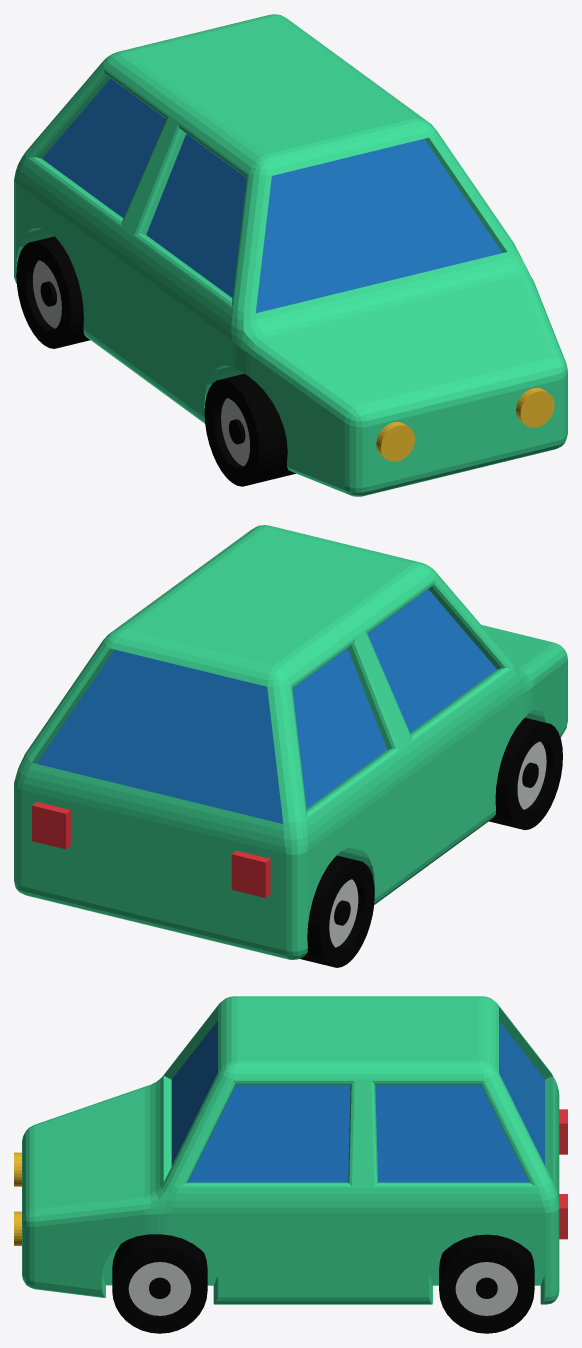
File: Auto groen 1 - auto + verlichting 1.glb
The picture shows the model from 3 angles, top to bottom: view 1: azimuth 30°, elevation 25°; view 2: azimuth 150°, elevation 25°; view 3: azimuth 270°, elevation 25°; orthographic projection. The views are drawn at different scales.
Parts seen in each view (by area): view 1: Auto, Cylinder.003, Cylinder.005, Cylinder.014; view 2: Auto, Cylinder.005, Cylinder.003, Cube.013; view 3: Auto, Cylinder.003, Cylinder.005, Cube.013, Cylinder.014.
Boxes of the visible parts, x1=… form: Auto: x1=14, y1=14, x2=567, y2=496; Cylinder.003: x1=204, y1=373, x2=295, y2=486; Cylinder.005: x1=16, y1=236, x2=90, y2=348; Cylinder.014: x1=376, y1=388, x2=554, y2=461; Auto: x1=14, y1=525, x2=567, y2=959; Cylinder.005: x1=300, y1=855, x2=374, y2=967; Cylinder.003: x1=489, y1=717, x2=562, y2=829; Cube.013: x1=32, y1=802, x2=270, y2=898; Auto: x1=22, y1=996, x2=559, y2=1304; Cylinder.003: x1=112, y1=1234, x2=207, y2=1333; Cylinder.005: x1=439, y1=1234, x2=534, y2=1333; Cube.013: x1=559, y1=1109, x2=567, y2=1239; Cylinder.014: x1=14, y1=1152, x2=21, y2=1245.
Size of the model in its own units: 5.11 by 4.45 by 9.31.
